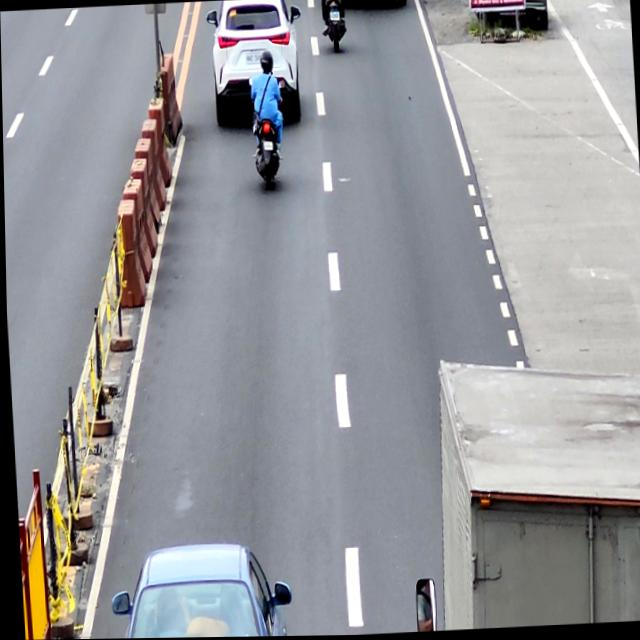Car: (107, 540, 290, 639), (205, 0, 308, 127)
License-Plate: (244, 51, 264, 65), (260, 140, 272, 153), (329, 12, 339, 22)
Motorcycle: (248, 72, 289, 193), (318, 0, 348, 54)
Truck: (399, 349, 640, 632)
